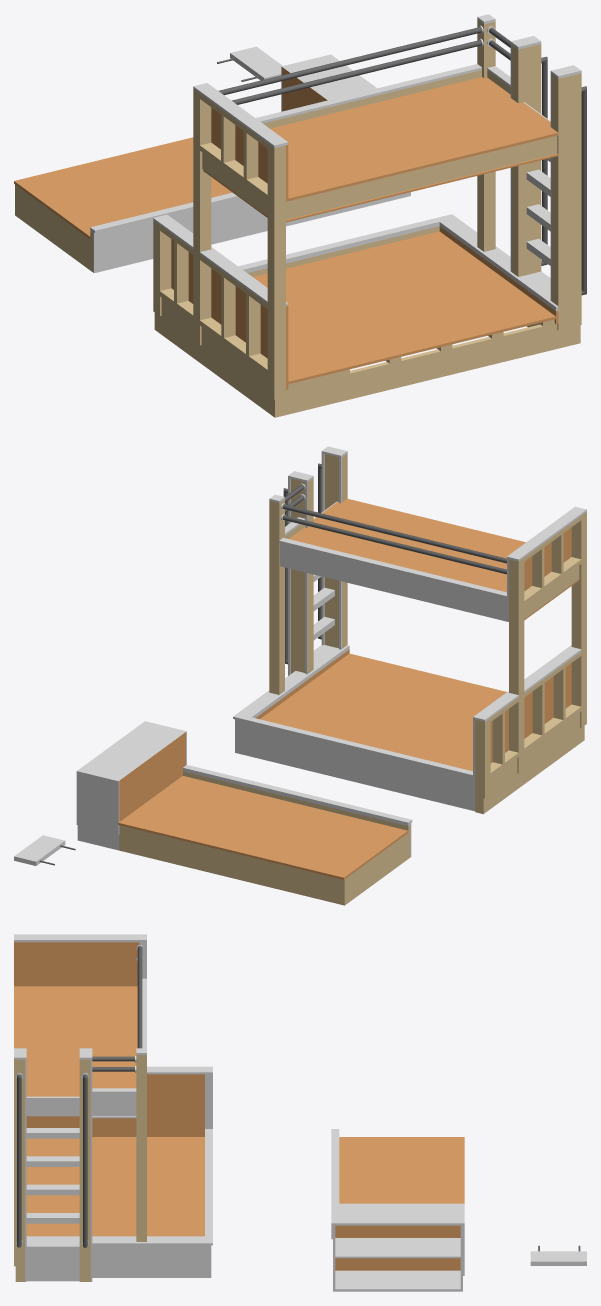
Rendered from bunks-project.glb.
The picture shows the model from 3 angles, top to bottom: view 1: azimuth 30°, elevation 25°; view 2: azimuth 150°, elevation 25°; view 3: azimuth 270°, elevation 25°; orthographic projection. The views are drawn at different scales.
Parts seen in each view (by area): view 1: queen-platform, twin-platform-top, bed-platform, queen-rail-side.001, twin-rail-side, leg.004, bed-rail-molding, leg.002, leg.005, ladder-leg.001, leg.006, queen-rail-head.001 (+34 smaller); view 2: queen-platform, bed-platform, twin-platform-top, queen-rail-side-molding, twin-rail-molding, bed-rail-side, leg.005, leg.003, leg.004, cabinet-back, cabinet-top, cabinet-side (+26 smaller); view 3: queen-platform, twin-platform-top, bed-platform, twin-head, queen-head, queen-rail-foot-molding.001, cabinet-back, cabinet-top, cabinet-bottom, cabinet-shelf, leg.003, ladder-leg (+20 smaller).
Boxes of the visible parts, x1=… form: queen-platform: x1=253, y1=231, x2=555, y2=384; twin-platform-top: x1=270, y1=77, x2=558, y2=200; bed-platform: x1=14, y1=137, x2=232, y2=238; queen-rail-side.001: x1=285, y1=323, x2=557, y2=415; twin-rail-side: x1=286, y1=136, x2=557, y2=219; leg.004: x1=267, y1=144, x2=285, y2=417; bed-rail-molding: x1=93, y1=198, x2=361, y2=273; leg.002: x1=551, y1=74, x2=569, y2=348; leg.005: x1=193, y1=89, x2=211, y2=363; ladder-leg.001: x1=569, y1=73, x2=581, y2=345; leg.006: x1=511, y1=45, x2=529, y2=276; queen-rail-head.001: x1=201, y1=327, x2=269, y2=413; queen-platform: x1=260, y1=653, x2=506, y2=771; bed-platform: x1=118, y1=776, x2=408, y2=879; twin-platform-top: x1=289, y1=498, x2=525, y2=592; queen-rail-side-molding: x1=236, y1=720, x2=475, y2=811; twin-rail-molding: x1=280, y1=543, x2=508, y2=621; bed-rail-side: x1=119, y1=829, x2=340, y2=904; leg.005: x1=509, y1=558, x2=524, y2=788; leg.003: x1=269, y1=499, x2=284, y2=694; leg.004: x1=571, y1=512, x2=586, y2=743; cabinet-back: x1=119, y1=732, x2=185, y2=821; cabinet-top: x1=78, y1=721, x2=185, y2=780; cabinet-side: x1=76, y1=770, x2=119, y2=834; queen-platform: x1=26, y1=1137, x2=204, y2=1236; twin-platform-top: x1=14, y1=986, x2=137, y2=1096; bed-platform: x1=339, y1=1137, x2=464, y2=1203; twin-head: x1=14, y1=942, x2=139, y2=986; queen-head: x1=26, y1=1074, x2=204, y2=1136; queen-rail-foot-molding.001: x1=92, y1=1246, x2=211, y2=1277; cabinet-back: x1=335, y1=1225, x2=460, y2=1270; cabinet-top: x1=333, y1=1203, x2=462, y2=1225; cabinet-bottom: x1=333, y1=1270, x2=462, y2=1291; cabinet-shelf: x1=335, y1=1238, x2=460, y2=1258; leg.003: x1=136, y1=1055, x2=146, y2=1241; ladder-leg: x1=79, y1=1059, x2=90, y2=1281.
Bounding box in the file's own units: 2.55 × 2.01 × 4.65.
